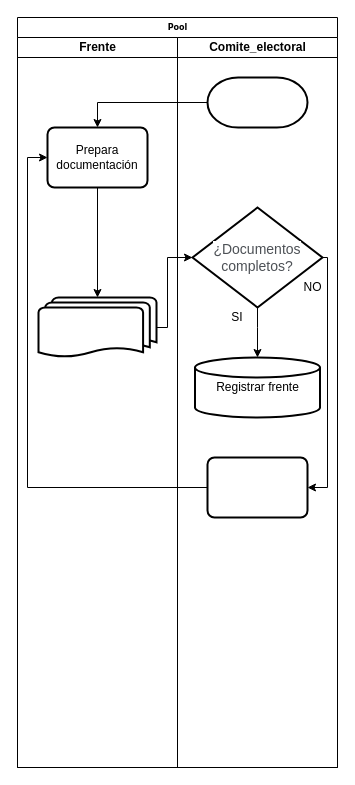
Some shapes in this 355 by 785 pixel diagram are drawn without their labels. Each missing label, with the centre of its shape:
"Entrega documentación" belongs at point (97, 327).
"Notificar observaciones" belongs at point (257, 487).
"Publica fechas" belongs at point (257, 102).
